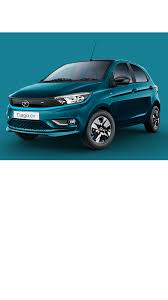Tiago: (5, 54, 161, 151)
